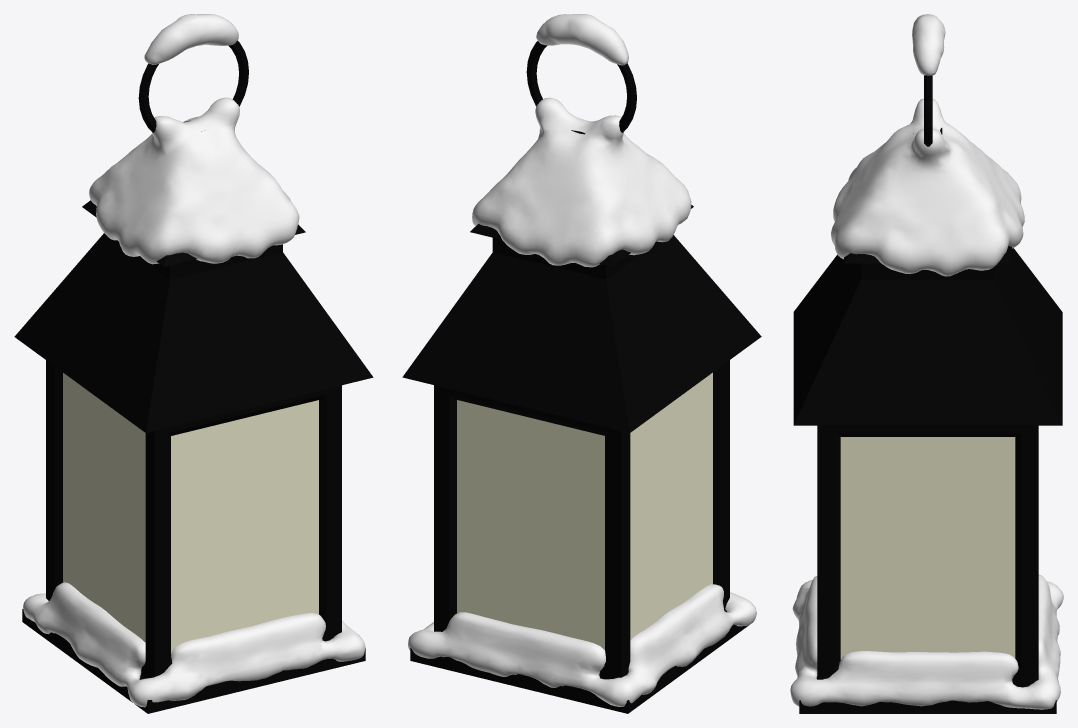
File: Lantern SNOW.fbx
3 renders of one model, left to right at view 1: azimuth 30°, elevation 25°; view 2: azimuth 150°, elevation 25°; view 3: azimuth 270°, elevation 25°, orthographic. The views are drawn at different scales.
Parts seen in each view (by area): view 1: Cube, SnowBall.001; view 2: Cube, SnowBall.001; view 3: Cube, SnowBall.001.
Part boxes in pixels (x1,y1,x2,y2): Cube: (14, 40, 373, 713); SnowBall.001: (23, 14, 365, 707); Cube: (402, 41, 761, 713); SnowBall.001: (408, 14, 756, 706); Cube: (793, 75, 1062, 713); SnowBall.001: (790, 14, 1063, 709).
Size of the model in its own units: 86.66 by 222 by 85.76.
